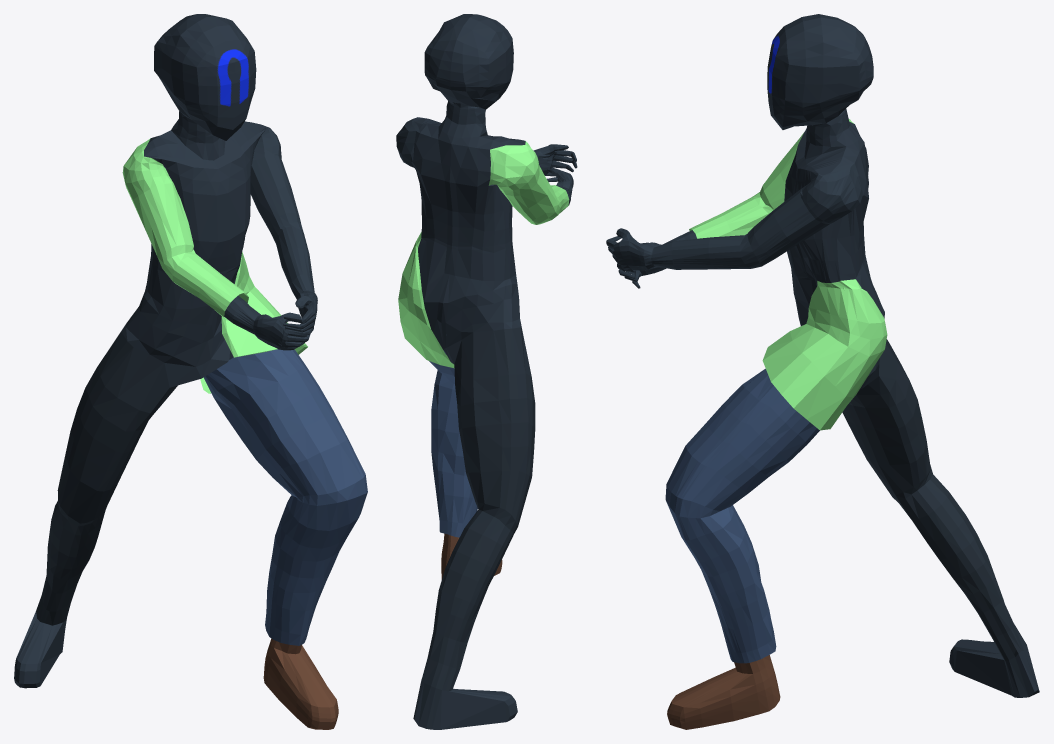
The model's file is Mar_WR_000027.obj.
3 renders of one model, left to right at view 1: azimuth 30°, elevation 25°; view 2: azimuth 150°, elevation 25°; view 3: azimuth 270°, elevation 25°, orthographic. The views are drawn at different scales.
Parts seen in each view (by area): view 1: Cube.000_Cube.001; view 2: Cube.000_Cube.001; view 3: Cube.000_Cube.001.
Boxes of the visible parts, box(x1,y1,x2,y2) form: Cube.000_Cube.001: box(14, 14, 367, 729); Cube.000_Cube.001: box(396, 14, 577, 729); Cube.000_Cube.001: box(606, 14, 1039, 729).
Bounding box in the file's own units: 1.2 × 3.71 × 2.07.
